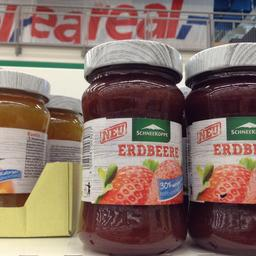jam: (81, 38, 185, 252), (184, 41, 254, 255), (0, 67, 47, 208)
